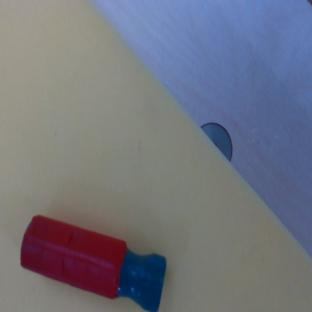part_2_good: (13, 212, 174, 312)
